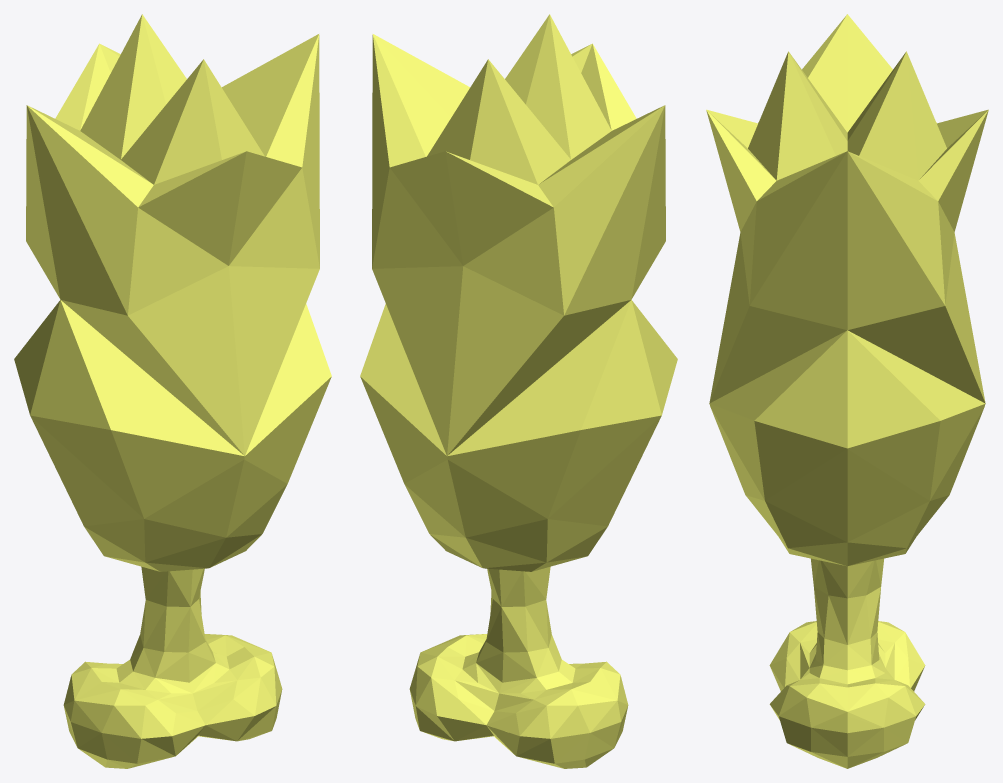
File: FreshWolf.fbx
3 renders of one model, left to right at view 1: azimuth 30°, elevation 25°; view 2: azimuth 150°, elevation 25°; view 3: azimuth 270°, elevation 25°, orthographic. The views are drawn at different scales.
Parts seen in each view (by area): view 1: Box001; view 2: Box001; view 3: Box001.
Boxes of the visible parts, <box> form: Box001: <box>14,14,331,768</box>; Box001: <box>360,14,677,768</box>; Box001: <box>706,14,988,768</box>.
Size of the model in its own units: 14.16 by 33.04 by 12.34.
